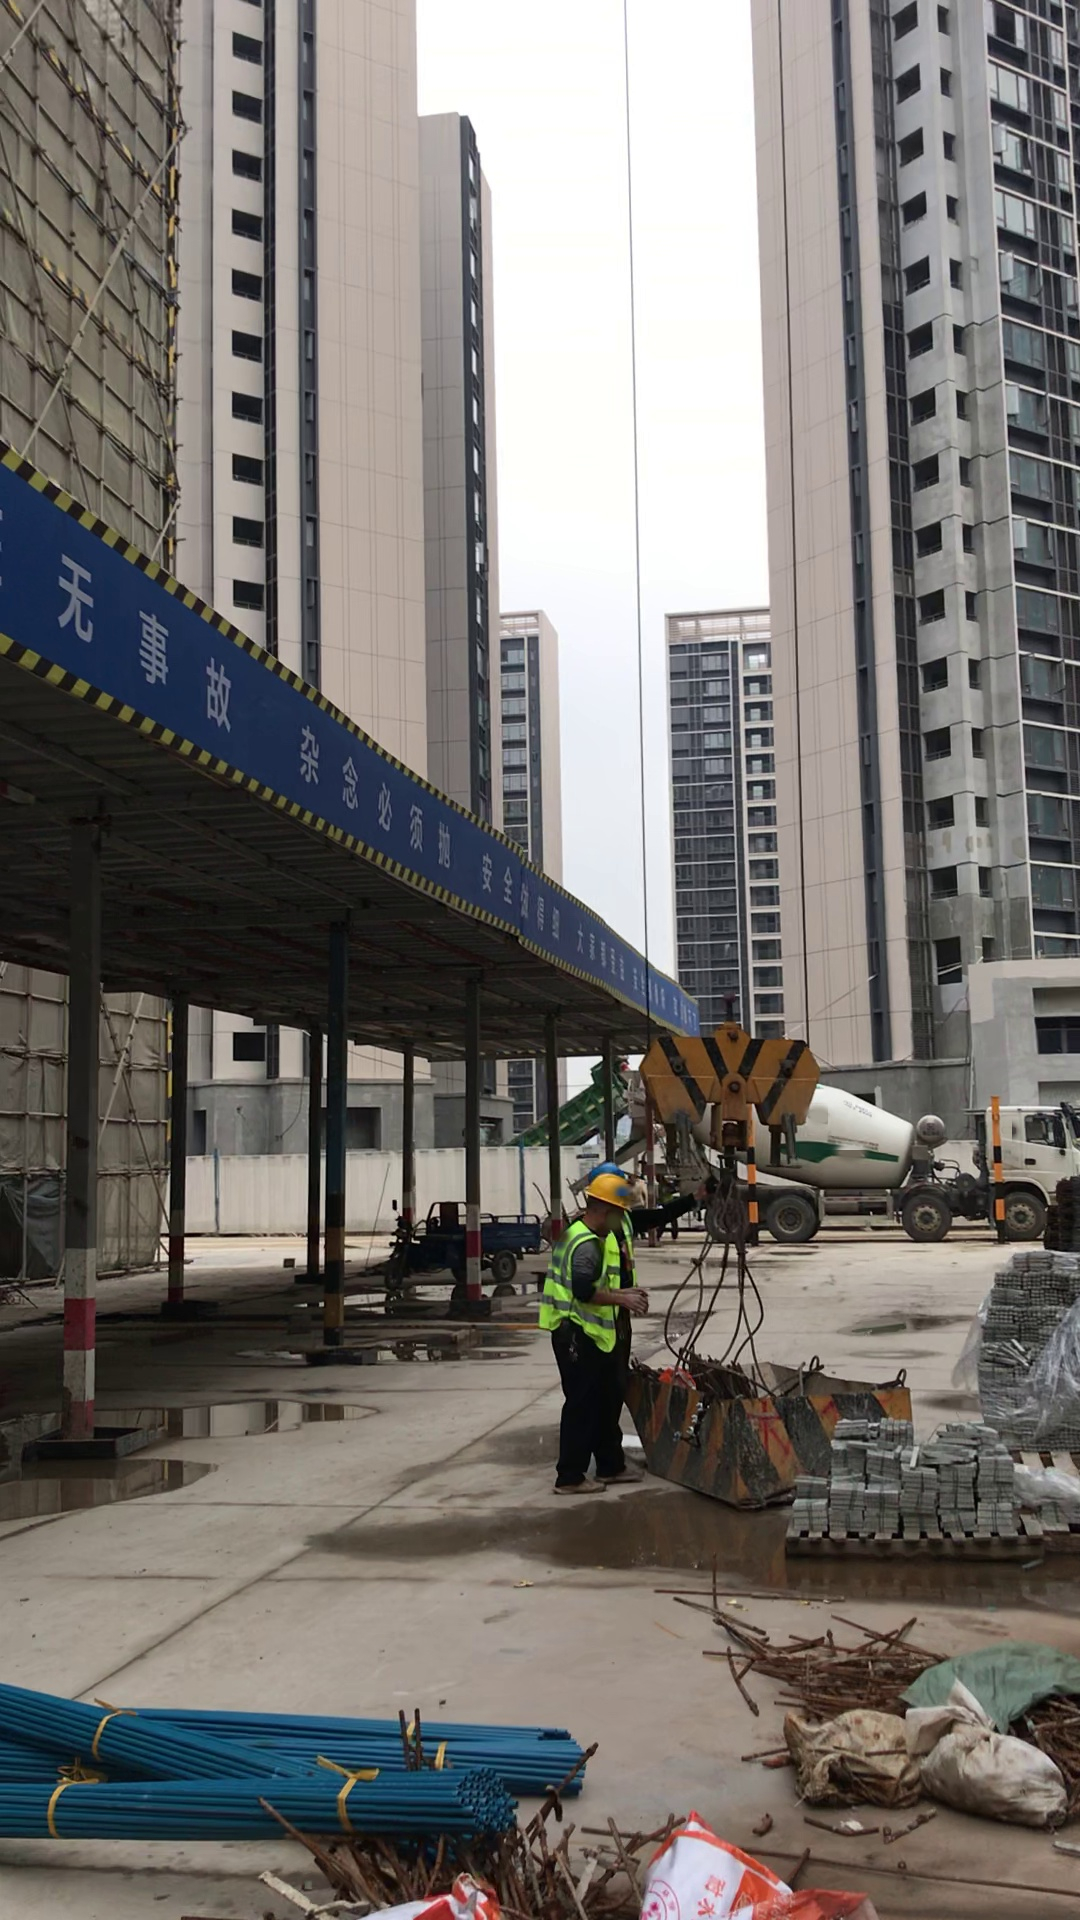helmet: (584, 1151, 638, 1204)
hook: (636, 988, 823, 1150)
person: (536, 1173, 643, 1494)
slogan: (34, 536, 696, 1033)
vest: (553, 1215, 618, 1345)
